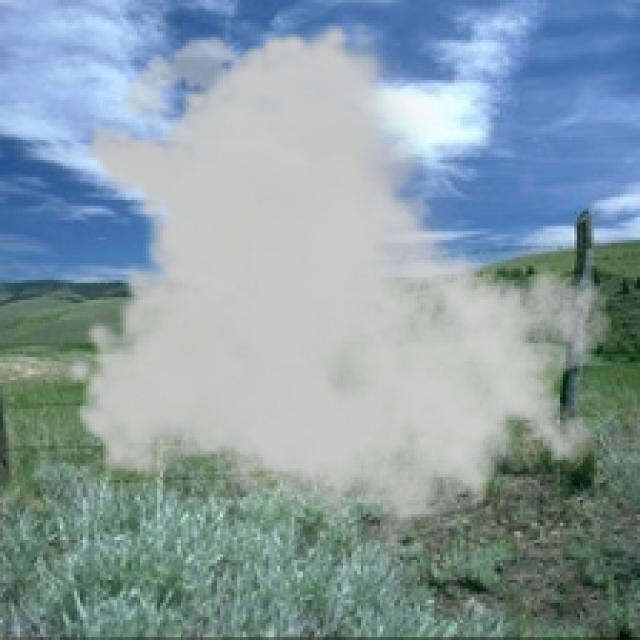smoke: (63, 20, 614, 571)
